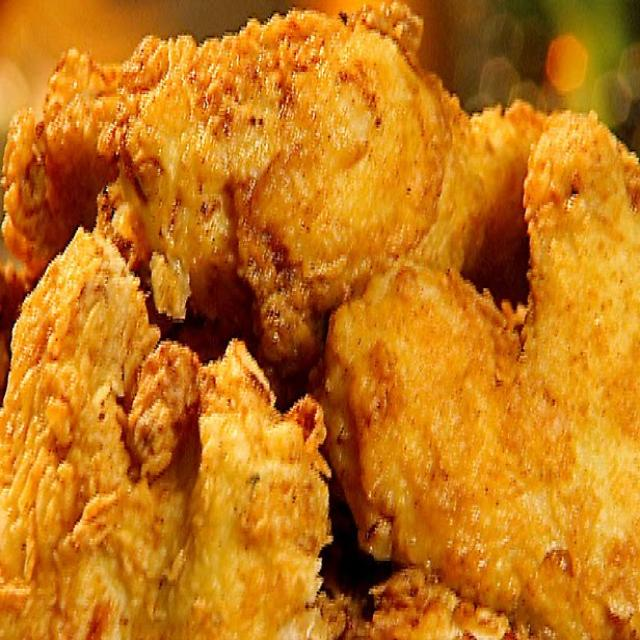Chicken -Fried Chicken-: (83, 0, 640, 362)
